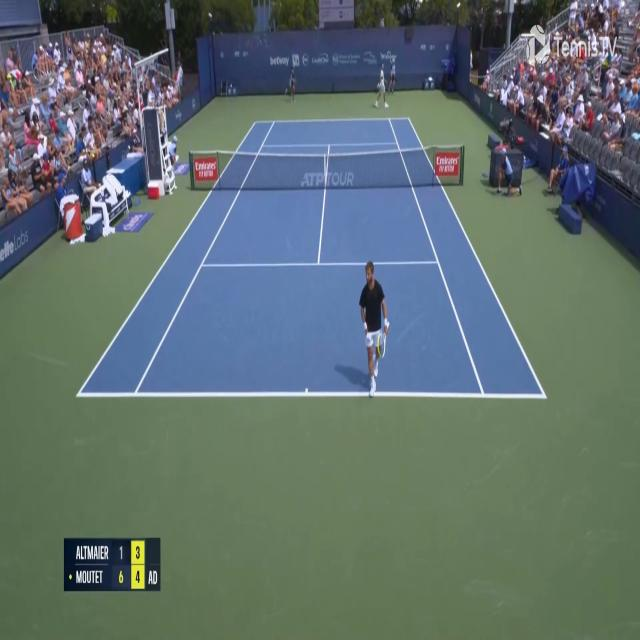tennis-player: (359, 257, 390, 397), (374, 62, 393, 110)
